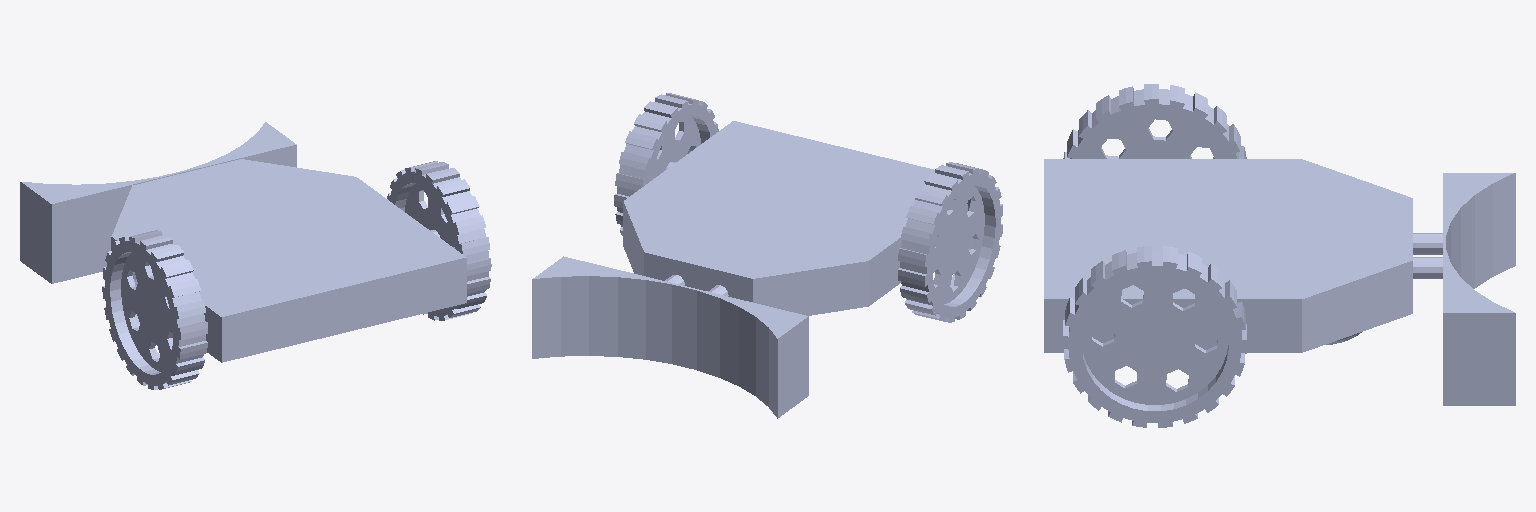
URDF robot description (robot_assembly):
<?xml version="1.0" encoding="utf-8"?>
<!-- This URDF was automatically created by SolidWorks to URDF Exporter! Originally created by [author] ([email redacted]) 
     Commit Version: 1.6.0-1-g15f4949  Build Version: 1.6.7594.29634
     For more information, please see http://wiki.ros.org/sw_urdf_exporter -->
<robot
  name="robot_assembly">
  <link
    name="base_link">
    <inertial>
      <origin
        xyz="-1.3863E-17 0.027637 0.030077"
        rpy="0 0 0" />
      <mass
        value="4" />
      <inertia
        ixx="0.56442"
        ixy="7.8489E-17"
        ixz="-4.1923E-18"
        iyy="0.34109"
        iyz="0.040266"
        izz="0.8599" />
    </inertial>
    <visual>
      <origin
        xyz="0 0 0"
        rpy="0 0 0" />
      <geometry>
        <mesh
          filename="package://robot_assembly/meshes/base_link.STL" />
      </geometry>
      <material
        name="">
        <color
          rgba="0.79216 0.81961 0.93333 1" />
      </material>
    </visual>
    <collision>
      <origin
        xyz="0 0 0"
        rpy="0 0 0" />
      <geometry>
        <mesh
          filename="package://robot_assembly/meshes/base_link.STL" />
      </geometry>
    </collision>
  </link>
  <link
    name="Right_wheel_Link">
    <inertial>
      <origin
        xyz="0.024841 -1.2351E-15 1.7528E-14"
        rpy="0 0 0" />
      <mass
        value="1.0395" />
      <inertia
        ixx="0.010857"
        ixy="5.2158E-20"
        ixz="-2.9389E-18"
        iyy="0.0055922"
        iyz="1.0842E-18"
        izz="0.0055922" />
    </inertial>
    <visual>
      <origin
        xyz="0 0 0"
        rpy="0 0 0" />
      <geometry>
        <mesh
          filename="package://robot_assembly/meshes/Right_wheel_Link.STL" />
      </geometry>
      <material
        name="">
        <color
          rgba="0.79216 0.81961 0.93333 1" />
      </material>
    </visual>
    <collision>
      <origin
        xyz="0 0 0"
        rpy="0 0 0" />
      <geometry>
        <mesh
          filename="package://robot_assembly/meshes/Right_wheel_Link.STL" />
      </geometry>
    </collision>
  </link>
  <joint
    name="Right_wheel_joint"
    type="continuous">
    <origin
      xyz="0.235 -0.1 0.04"
      rpy="0.97451 0 0" />
    <parent
      link="base_link" />
    <child
      link="Right_wheel_Link" />
    <axis
      xyz="-1 0 0" />
  </joint>
  <link
    name="Left_wheel_Link">
    <inertial>
      <origin
        xyz="0.024841 -1.1519E-15 1.7542E-14"
        rpy="0 0 0" />
      <mass
        value="1.0395" />
      <inertia
        ixx="0.010857"
        ixy="-3.2167E-19"
        ixz="-1.9974E-18"
        iyy="0.0055922"
        iyz="-2.1684E-19"
        izz="0.0055922" />
    </inertial>
    <visual>
      <origin
        xyz="0 0 0"
        rpy="0 0 0" />
      <geometry>
        <mesh
          filename="package://robot_assembly/meshes/Left_wheel_Link.STL" />
      </geometry>
      <material
        name="">
        <color
          rgba="0.79216 0.81961 0.93333 1" />
      </material>
    </visual>
    <collision>
      <origin
        xyz="0 0 0"
        rpy="0 0 0" />
      <geometry>
        <mesh
          filename="package://robot_assembly/meshes/Left_wheel_Link.STL" />
      </geometry>
    </collision>
  </link>
  <joint
    name="Left_wheel_joint"
    type="continuous">
    <origin
      xyz="-0.235 -0.1 0.04"
      rpy="1.6761 0 3.1416" />
    <parent
      link="base_link" />
    <child
      link="Left_wheel_Link" />
    <axis
      xyz="1 0 0" />
  </joint>
  <gazebo>
    <plugin filename="libgazebo_ros_diff_drive.so" name="differential_drive_controller">
      <alwaysOn>true</alwaysOn>
      <updateRate>20</updateRate>
      <leftJoint>Left_wheel_joint</leftJoint>
      <rightJoint>Right_wheel_joint</rightJoint>
      <wheelSeparation>0.470</wheelSeparation>
      <wheelDiameter>0.25</wheelDiameter>
      <torque>0.1</torque>
      <commandTopic>cmd_vel</commandTopic>
      <odometryTopic>odom</odometryTopic>
      <odometryFrame>odom</odometryFrame>
      <robotBaseFrame>base_link</robotBaseFrame>
    </plugin>
  </gazebo>
</robot>

--- Facts derived from the render (not from the file) ---
3 views of the same robot in one strip: view 1: azimuth 30°, elevation 25°; view 2: azimuth 150°, elevation 25°; view 3: azimuth 270°, elevation 25° (orthographic).
Model robot_assembly with 3 links and 2 joints (2 continuous), rooted at base_link, posed every joint at zero.
Visible links, largest first — view 1: base_link, Left_wheel_Link, Right_wheel_Link; view 2: base_link, Left_wheel_Link, Right_wheel_Link; view 3: base_link, Right_wheel_Link, Left_wheel_Link.
Boxes of the visible links, box(x1,y1,x2,y2) form: base_link: box(20, 122, 466, 362); Left_wheel_Link: box(102, 230, 207, 389); Right_wheel_Link: box(387, 161, 491, 320); base_link: box(532, 121, 967, 418); Left_wheel_Link: box(898, 162, 1002, 322); Right_wheel_Link: box(614, 93, 718, 235); base_link: box(1044, 159, 1515, 405); Right_wheel_Link: box(1063, 246, 1246, 427); Left_wheel_Link: box(1063, 84, 1246, 158).
Bounding box of the posed robot: 0.57 × 0.639 × 0.2498 m (x, y, z).
3 mesh visuals loaded from 3 distinct referenced files (3 binary STL).